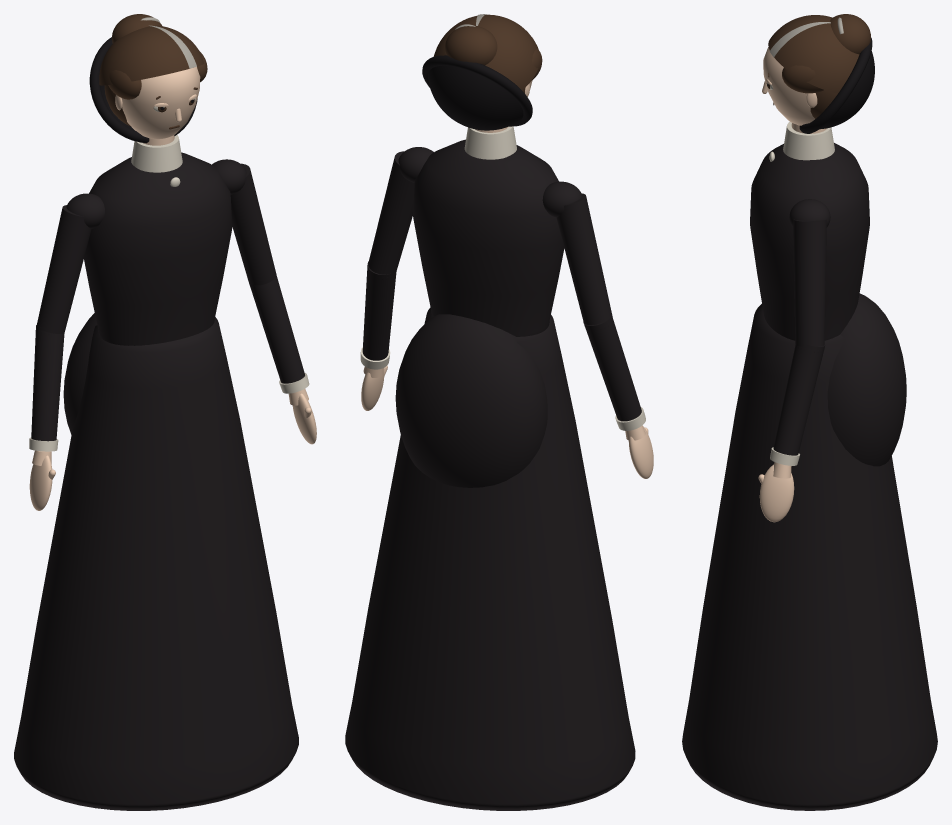
File: helen.glb
3 renders of one model, left to right at view 1: azimuth 30°, elevation 25°; view 2: azimuth 150°, elevation 25°; view 3: azimuth 270°, elevation 25°, orthographic.
Visible parts, largest first — view 1: body_skirt, body_bodice, head_hair_cap, arm_right_upper, head_face, arm_left_upper, arm_right_sleeve, arm_left_sleeve, body_bustle, head_veil_hem, body_collar, arm_right_palm (+5 smaller); view 2: body_skirt, body_bodice, body_bustle, head_veil, arm_right_upper, arm_left_upper, head_hair_cap, arm_right_sleeve, arm_left_sleeve, head_hair_bun, head_veil_hem, body_collar (+4 smaller); view 3: body_skirt, body_bodice, body_bustle, arm_left_upper, head_hair_cap, arm_left_sleeve, head_face, body_collar, arm_left_palm, head_veil_hem, head_veil, head_hair_bun (+2 smaller).
Boxes of the visible parts, box(x1,y1,x2,y2) form: body_skirt: box(14, 317, 298, 810); body_bodice: box(84, 152, 232, 345); head_hair_cap: box(99, 25, 203, 85); arm_right_upper: box(36, 205, 91, 333); head_face: box(121, 67, 200, 139); arm_left_upper: box(230, 163, 276, 285); arm_right_sleeve: box(31, 325, 64, 441); arm_left_sleeve: box(249, 275, 304, 383); body_bustle: box(63, 313, 97, 434); head_veil_hem: box(89, 37, 197, 143); body_collar: box(131, 135, 182, 172); arm_right_palm: box(29, 455, 52, 510); body_skirt: box(345, 307, 635, 810); body_bodice: box(413, 139, 564, 336); body_bustle: box(395, 314, 547, 487); head_veil: box(428, 65, 523, 130); arm_right_upper: box(556, 193, 612, 324); arm_left_upper: box(368, 151, 414, 274); head_hair_cap: box(433, 14, 538, 89); arm_right_sleeve: box(583, 316, 641, 421); arm_left_sleeve: box(362, 261, 396, 360); head_hair_bun: box(445, 25, 497, 65); head_veil_hem: box(422, 55, 532, 126); body_collar: box(464, 126, 516, 159); body_skirt: box(682, 304, 937, 810); body_bodice: box(750, 143, 869, 340); body_bustle: box(827, 293, 906, 466); arm_left_upper: box(793, 219, 826, 346); head_hair_cap: box(768, 15, 859, 93); arm_left_sleeve: box(773, 344, 825, 455); head_face: box(763, 47, 814, 125); body_collar: box(783, 122, 834, 160); arm_left_palm: box(759, 464, 794, 522); head_veil_hem: box(799, 38, 872, 133); head_veil: box(820, 51, 874, 129); head_hair_bun: box(830, 14, 870, 54).
Bounding box in the file's own units: 0.6528 × 1.62 × 0.5129.
